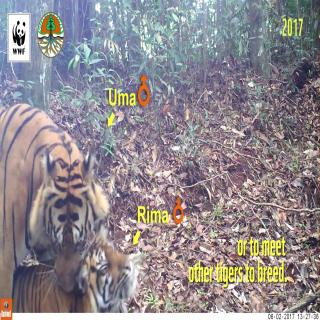Tiger: (0, 91, 94, 277), (15, 236, 144, 314)
